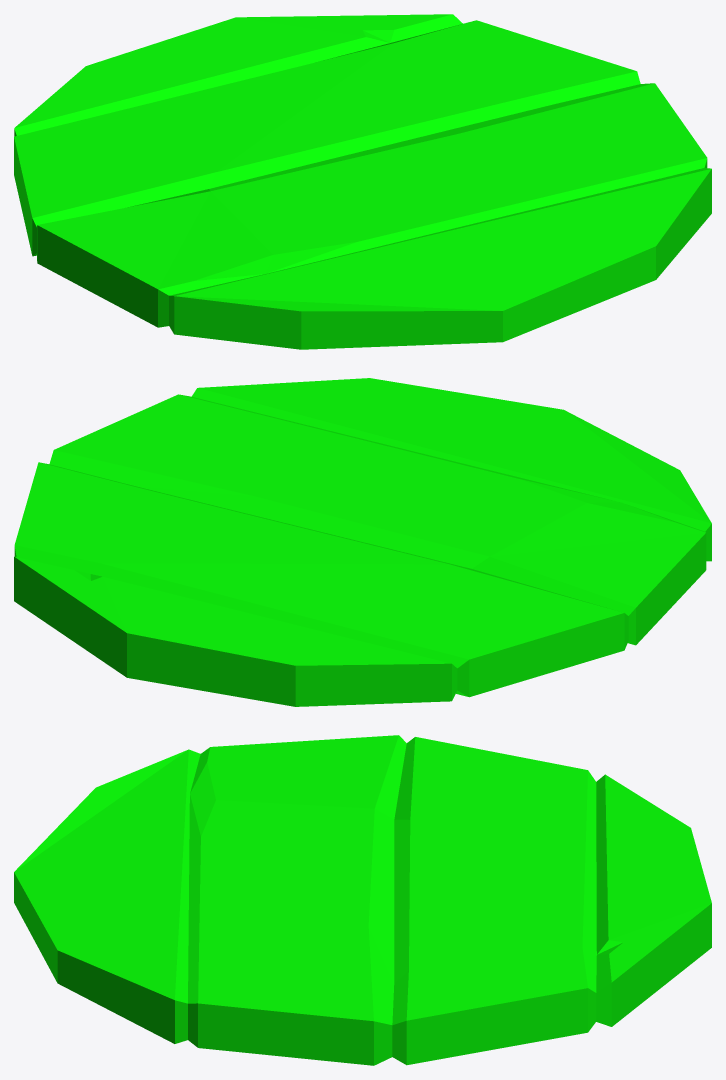
The model's file is SM_Barrel_Wood_B_Lid_Fantasy.fbx.
The picture shows the model from 3 angles, top to bottom: view 1: azimuth 30°, elevation 25°; view 2: azimuth 150°, elevation 25°; view 3: azimuth 270°, elevation 25°; orthographic projection.
Parts seen in each view (by area): view 1: barrel-wood-b-lid-fantasy; view 2: barrel-wood-b-lid-fantasy; view 3: barrel-wood-b-lid-fantasy.
Part boxes in pixels (<box>): barrel-wood-b-lid-fantasy: <box>14,14,711,349</box>; barrel-wood-b-lid-fantasy: <box>14,378,711,706</box>; barrel-wood-b-lid-fantasy: <box>14,735,711,1065</box>.
Size of the model in its own units: 0.702 by 0.0504 by 0.715.
